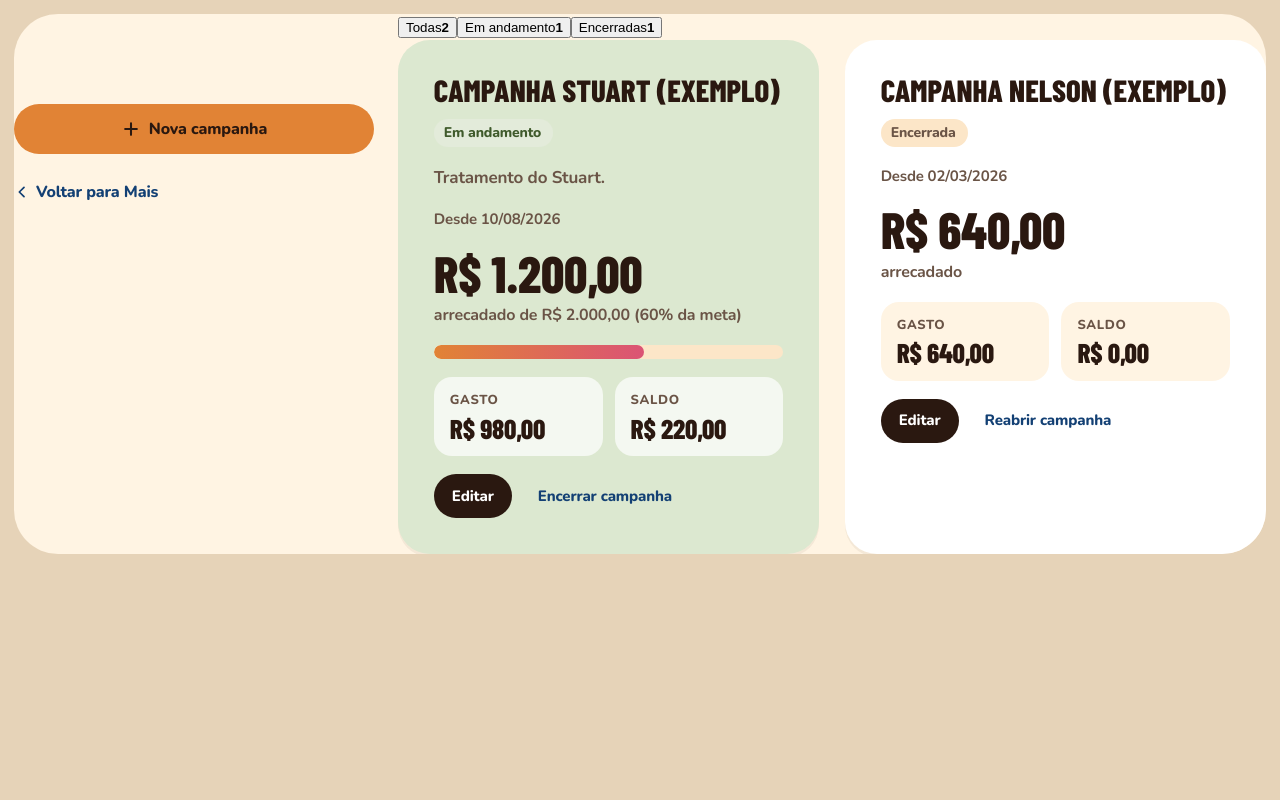
Test case: ListaCampanhas › filtra as encerradas
What coordinates should you click on to do the following:
click the button "Encerradas1"
I would click on:
 (617, 28)
Its box is [571,17,662,38].
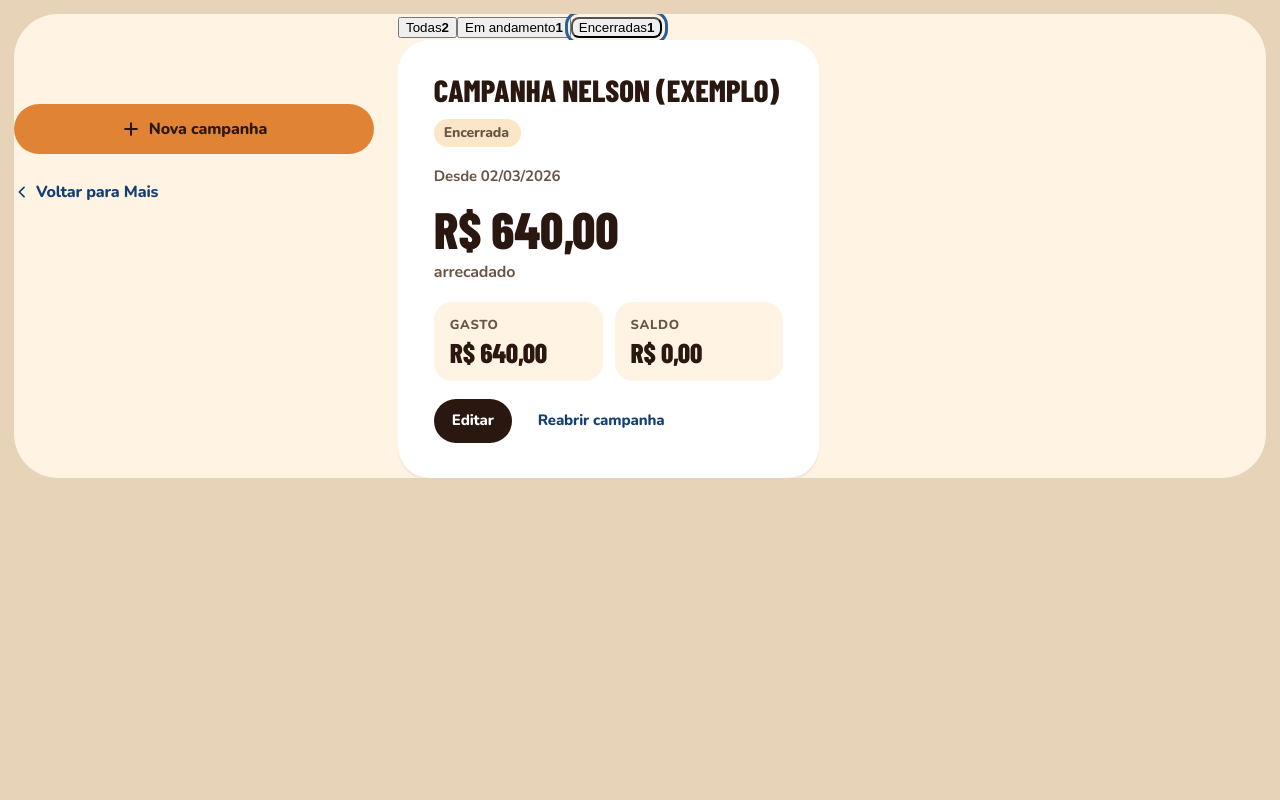
Expected: the heading "Campanha Nelson (exemplo)" is shown, [434,75,779,104]
Result: the heading "Campanha Stuart (exemplo)" is gone
